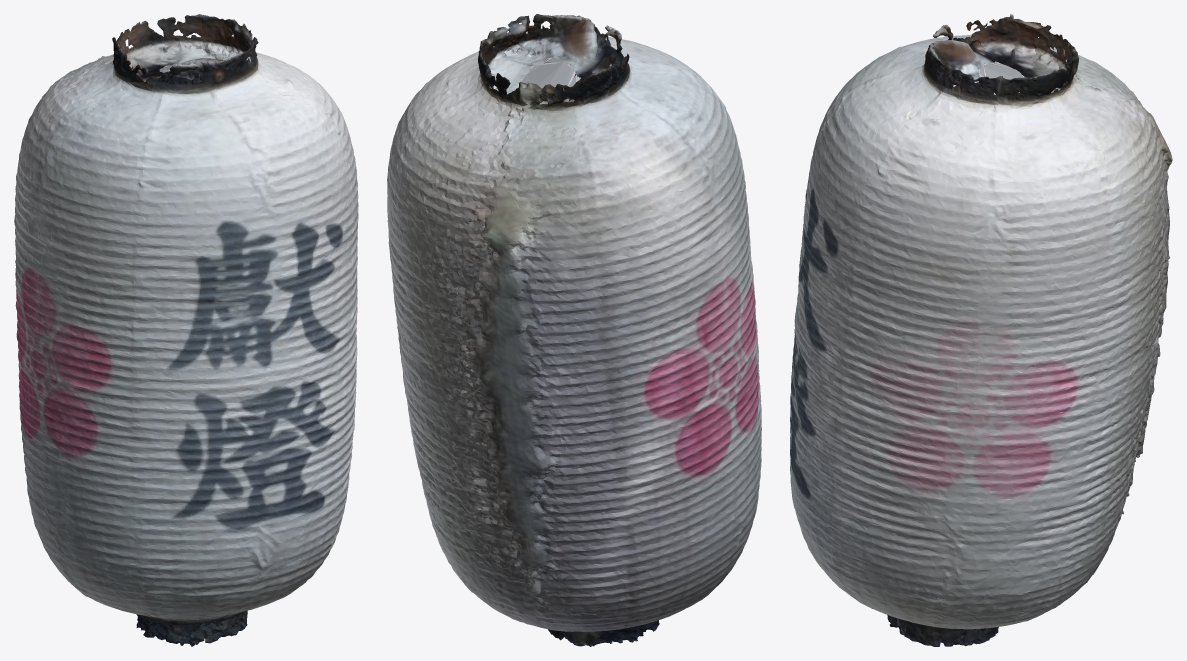
The model's file is lantern 3.glb.
3 renders of one model, left to right at view 1: azimuth 30°, elevation 25°; view 2: azimuth 150°, elevation 25°; view 3: azimuth 270°, elevation 25°, orthographic. The views are drawn at different scales.
Parts seen in each view (by area): view 1: 49a76edc-c76d-459c-87f2-2723483bad1b; view 2: 49a76edc-c76d-459c-87f2-2723483bad1b; view 3: 49a76edc-c76d-459c-87f2-2723483bad1b.
Boxes of the visible parts, bbox=[...] form: 49a76edc-c76d-459c-87f2-2723483bad1b: bbox=[14, 14, 358, 646]; 49a76edc-c76d-459c-87f2-2723483bad1b: bbox=[387, 14, 761, 646]; 49a76edc-c76d-459c-87f2-2723483bad1b: bbox=[790, 14, 1172, 646].
Size of the model in its own units: 0.0138 by 0.0252 by 0.0146.
Materials: 1 (1 with a texture image).
